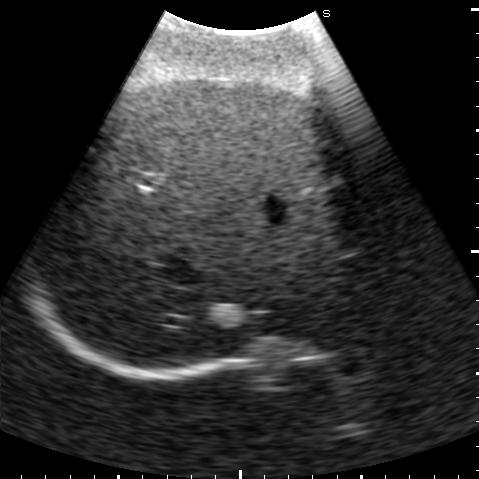S5: (121, 82, 350, 185)
S7: (34, 158, 152, 295)
S8: (90, 178, 375, 369)
Tumor: (209, 302, 243, 327)
